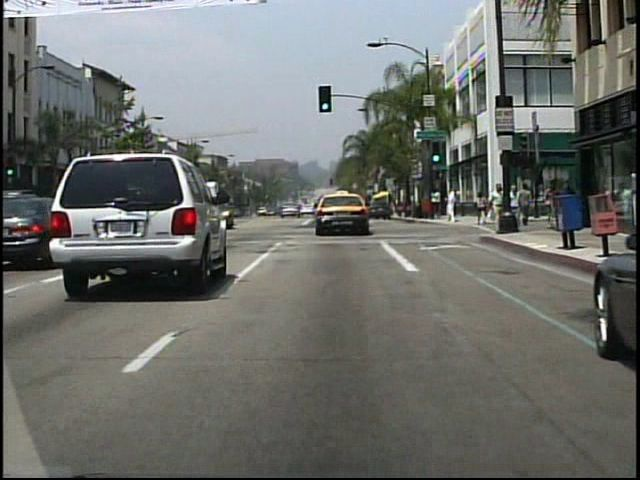person: (487, 184, 507, 233), (486, 181, 502, 236), (506, 183, 521, 231), (520, 183, 535, 228), (505, 190, 518, 226), (476, 191, 488, 229), (447, 188, 459, 224), (430, 186, 441, 219)
